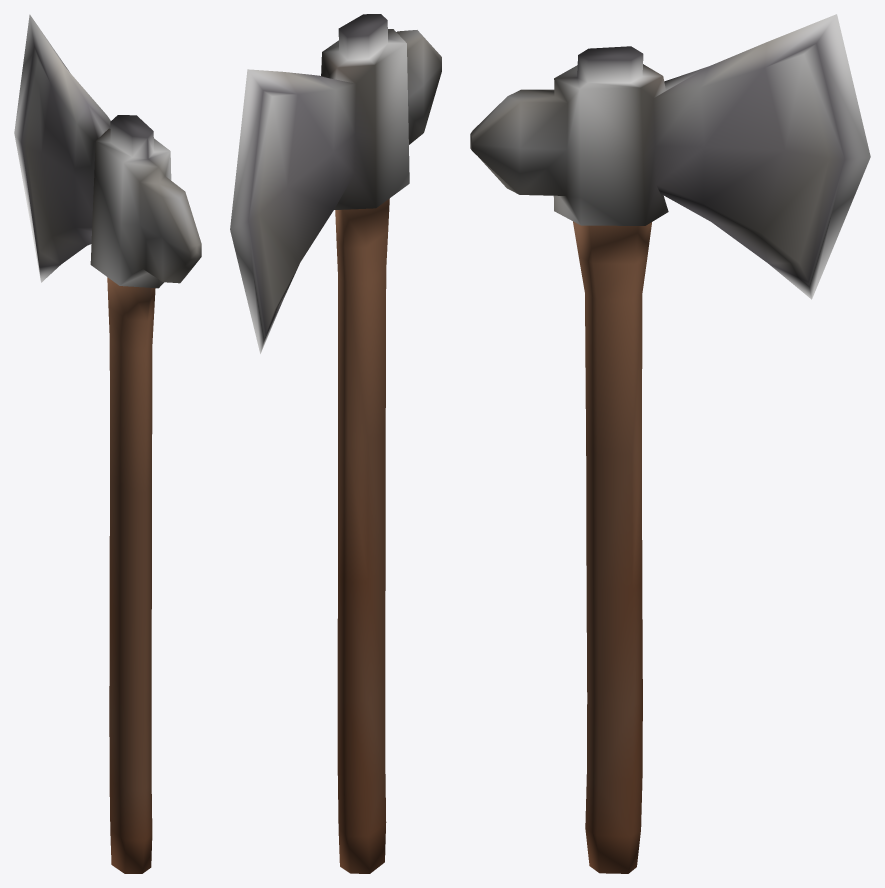
Rendered from SteelAxe.fbx.
3 renders of one model, left to right at view 1: azimuth 30°, elevation 25°; view 2: azimuth 150°, elevation 25°; view 3: azimuth 270°, elevation 25°, orthographic. The views are drawn at different scales.
Visible parts, largest first — view 1: Plane.013; view 2: Plane.013; view 3: Plane.013.
Part boxes in pixels (bbox=[...]): Plane.013: bbox=[14, 14, 201, 873]; Plane.013: bbox=[230, 14, 441, 873]; Plane.013: bbox=[470, 14, 870, 873].
Size of the model in its own units: 38.43 by 533 by 227.
